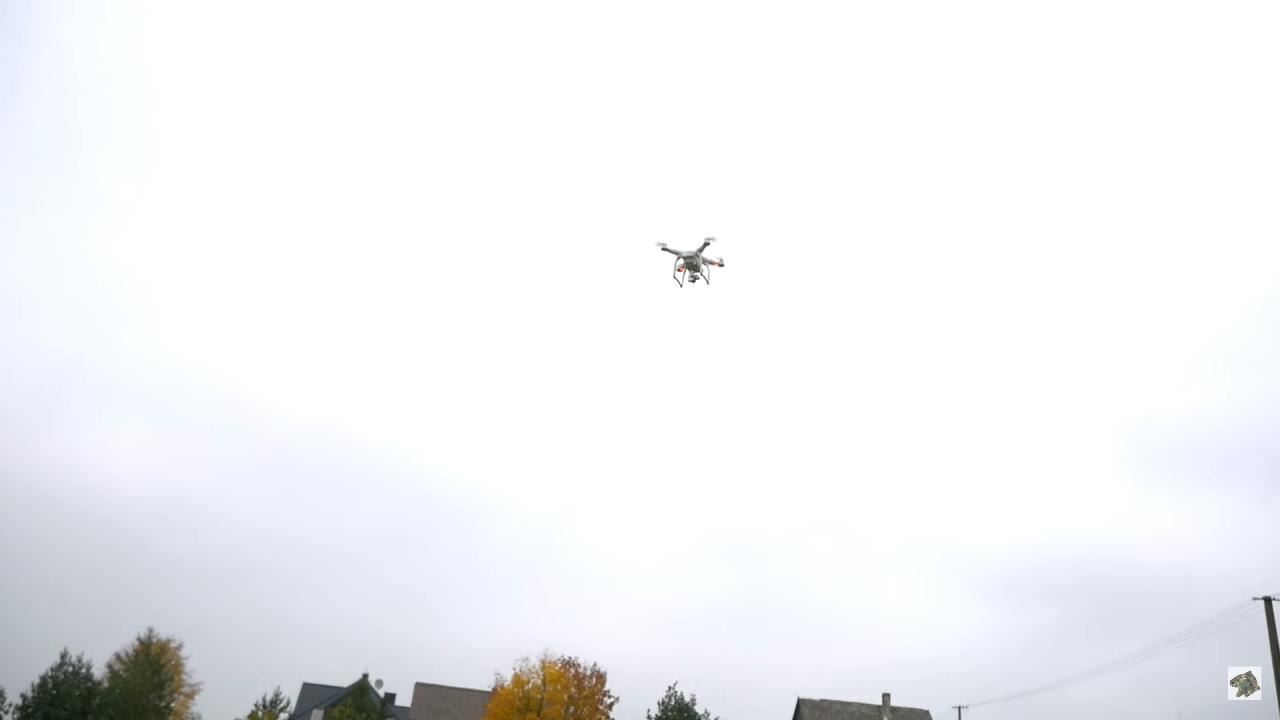Drone: (646, 225, 738, 304)
